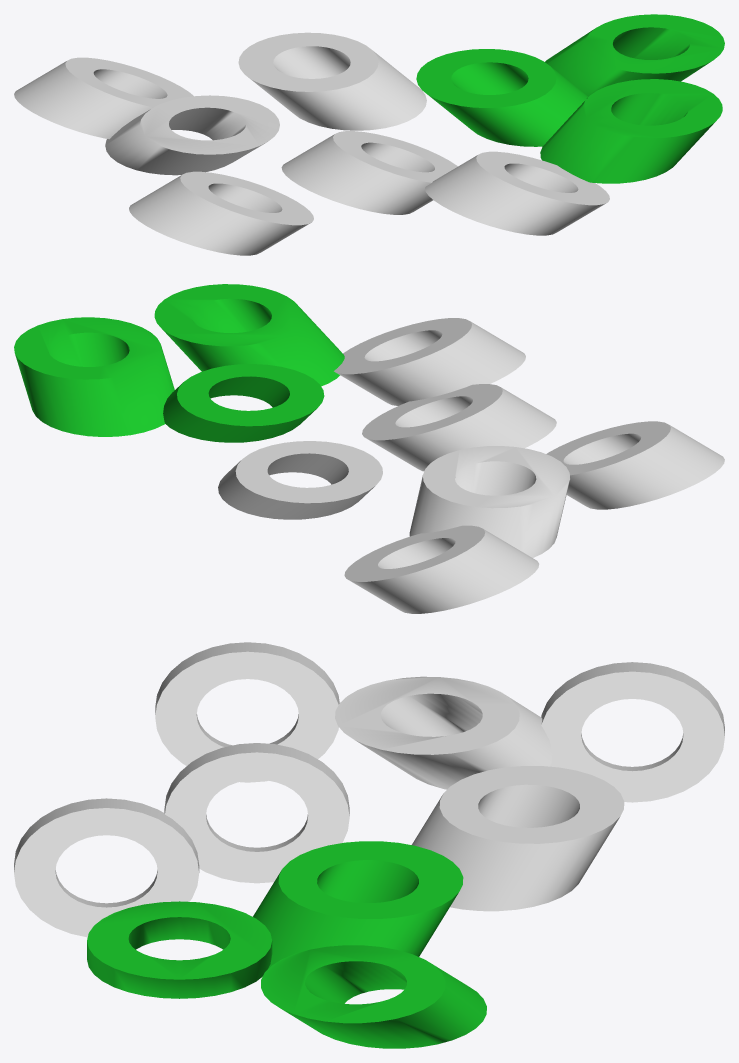
File: choppedLeek.fbx
3 views of the same model, one above another, from view 1: azimuth 30°, elevation 25°; view 2: azimuth 150°, elevation 25°; view 3: azimuth 270°, elevation 25° (orthographic). The views are drawn at different scales.
Parts seen in each view (by area): view 1: choppedLeek; view 2: choppedLeek; view 3: choppedLeek.
Part boxes in pixels (<box>): choppedLeek: <box>14,14,724,255</box>; choppedLeek: <box>14,284,724,613</box>; choppedLeek: <box>14,642,724,1048</box>.
Bounding box in the file's own units: 140 × 13.3 × 106.
